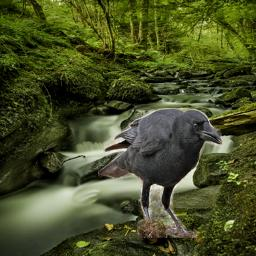Crow: (98, 108, 222, 238)
